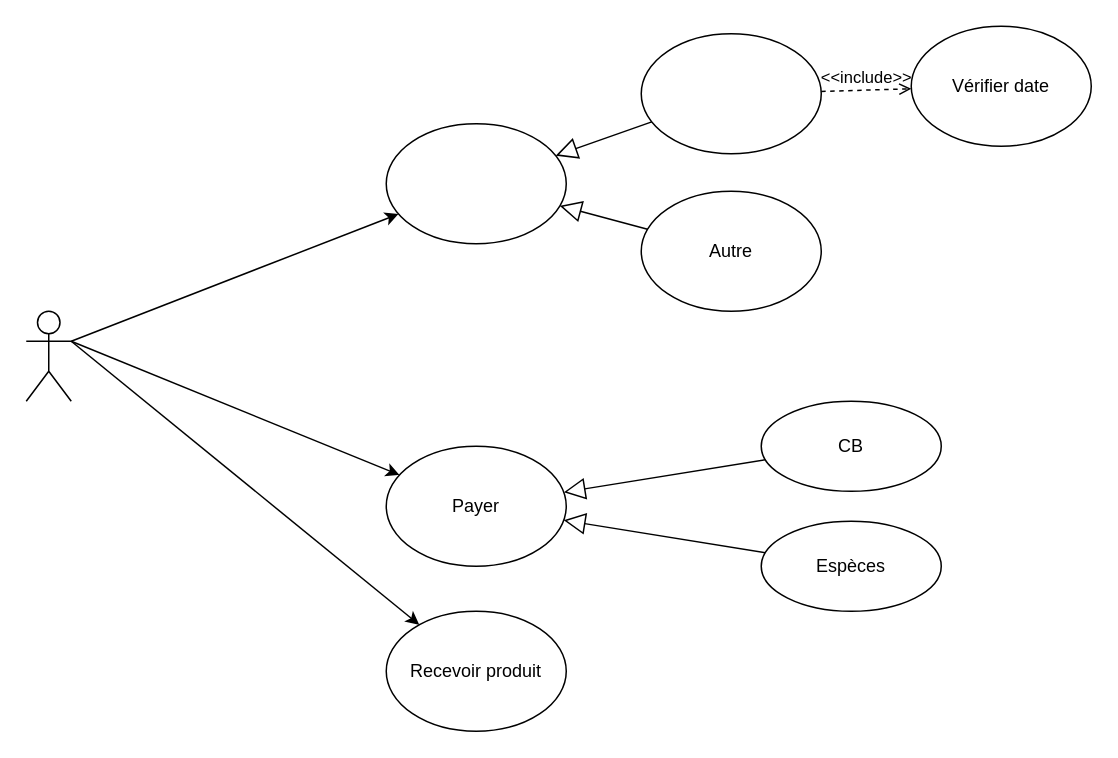
Image size: 1118x758. Some labels were removed from this diagram. The shapes that lost their labels are listed below. From the top down, each one's box as (x1, y1, x2, y2) in pixels, then its label:
(640, 32, 821, 154): Alimentaire
(385, 122, 566, 244): Choisir produit
(25, 310, 71, 401): Client
